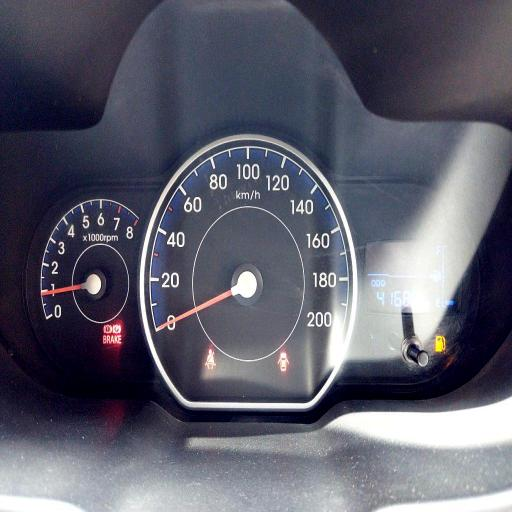belt: (204, 348, 217, 370)
brake_system_fault: (103, 325, 112, 334)
tachometer: (41, 198, 141, 348)
